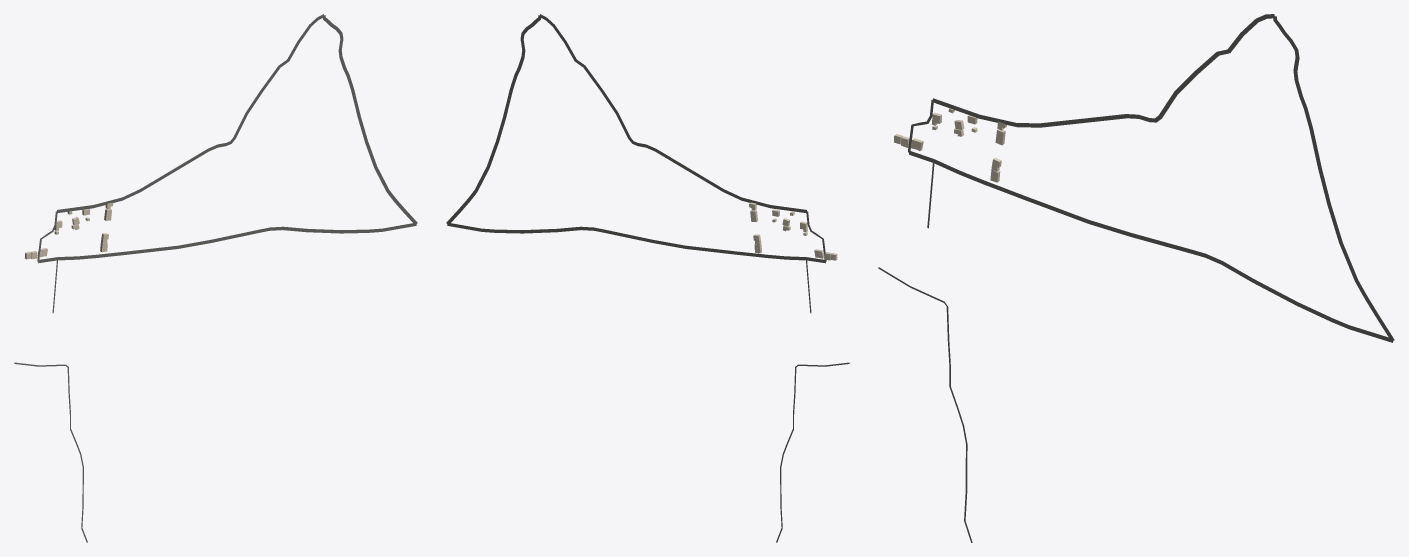
File: historic-palestine-08_26_3503_3206.glb
3 renders of one model, left to right at view 1: azimuth 30°, elevation 25°; view 2: azimuth 150°, elevation 25°; view 3: azimuth 330°, elevation 25°, orthographic. The views are drawn at different scales.
Visible parts, largest first — view 1: Road Tariq al-Balu', Road Jindas Drive, Road طريق رافات - دير بلوط; view 2: Road Tariq al-Balu', Road Jindas Drive, Road طريق رافات - دير بلوط; view 3: Road Tariq al-Balu', Road Jindas Drive, Road طريق رافات - دير بلوط, Road .001.
Boxes of the visible parts, x1,y1,x2,y2 form: Road Tariq al-Balu': [38, 223, 416, 263]; Road Jindas Drive: [56, 14, 323, 213]; Road طريق رافات - دير بلوط: [323, 15, 417, 224]; Road Tariq al-Balu': [447, 222, 825, 263]; Road Jindas Drive: [539, 14, 807, 213]; Road طريق رافات - دير بلوط: [446, 15, 540, 224]; Road Tariq al-Balu': [909, 150, 1393, 342]; Road Jindas Drive: [932, 14, 1275, 127]; Road طريق رافات - دير بلوط: [1273, 16, 1394, 340]; Road .001: [878, 267, 972, 542].
Bounding box in the file's own units: 1024 × 1143 × 9.09.
